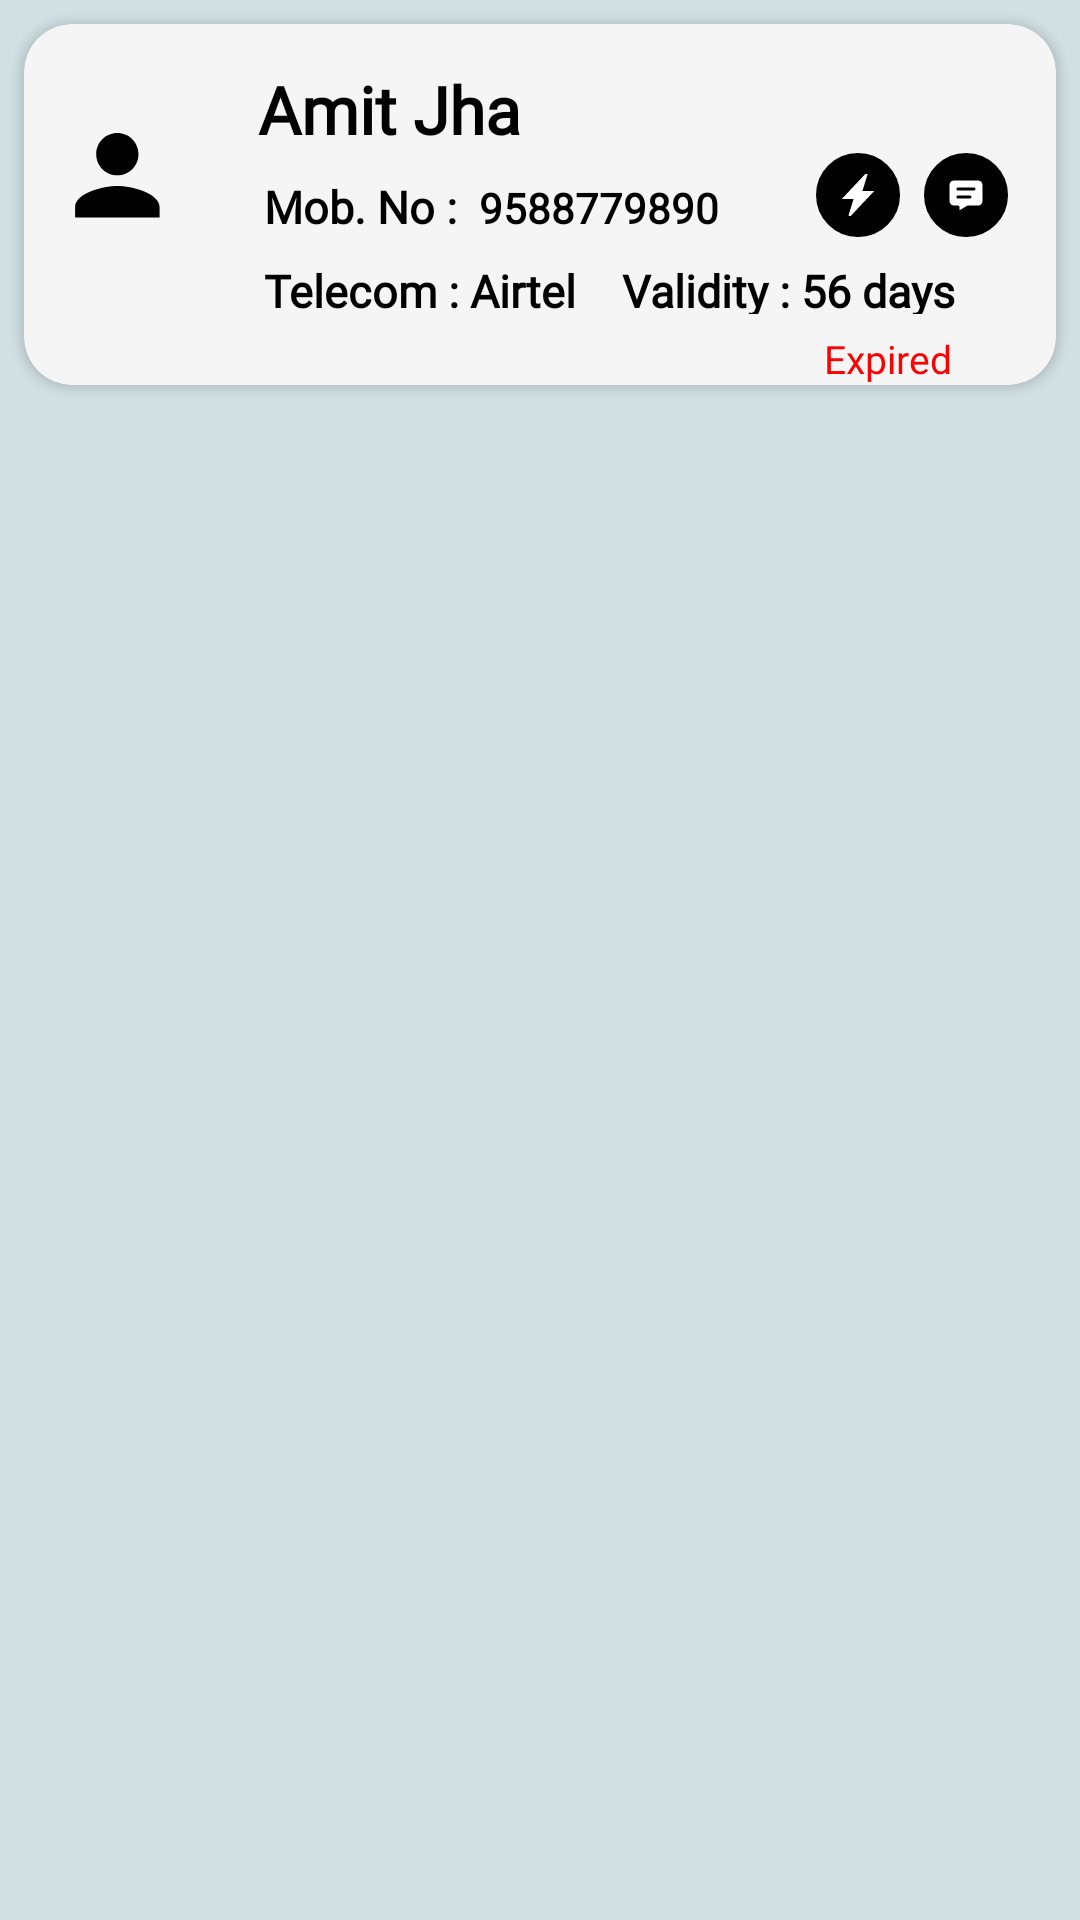

Screen size 1080w x 1920h. Icon name, then its center in pixels as (x,y):
comment: (966,195)
flash: (858,195)
